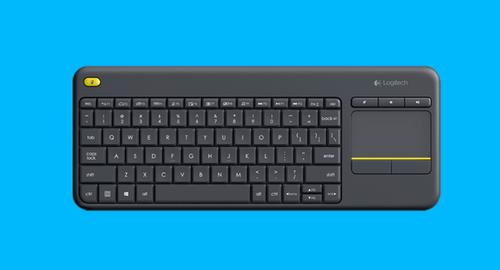logitech-keyboard-k400: (70, 68, 440, 211)
